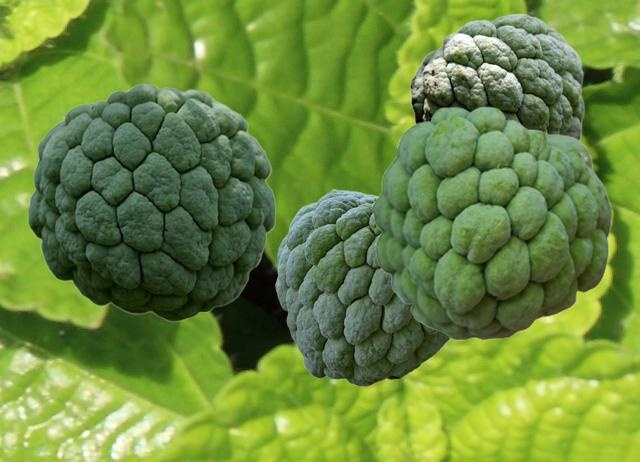atis: (27, 83, 275, 321), (371, 106, 611, 339), (275, 189, 450, 385), (409, 13, 584, 139)
